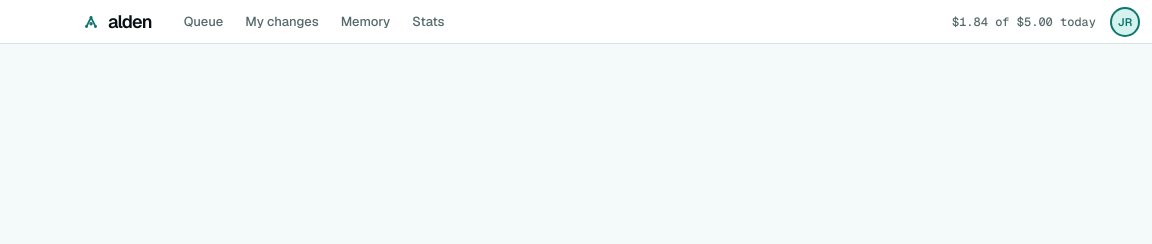
it: TopBar › says what still signs you in, and saves the export to Downloads in the desktop app
This screenshot has width=1152, height=244.
Click the button with aria-label "Account menu": x=1125, y=22 1112,8 -> 1138,34
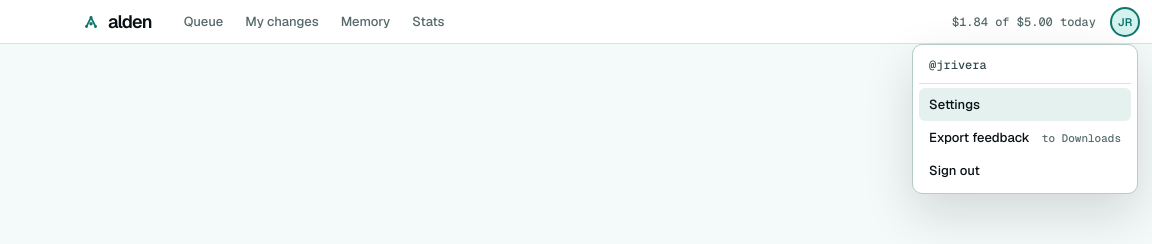
Click the menu item "Export feedback to Downloads": x=1025, y=137 919,120 -> 1131,154
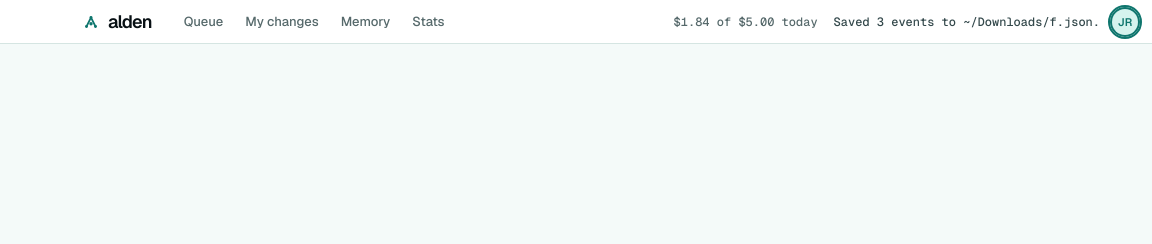
Expected: the text "Saved 3 events to ~/Downloads/f.json." is shown, 834,14 -> 1100,30
Click the button with aria-label "Account menu": x=1125, y=22 1112,8 -> 1138,34
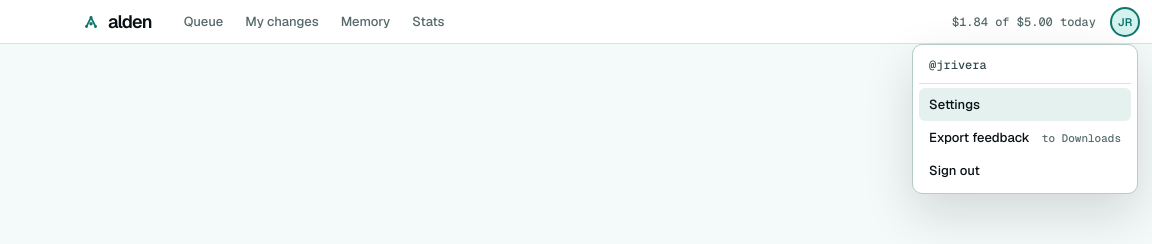
Click the menu item "Sign out": x=1025, y=170 919,154 -> 1131,186
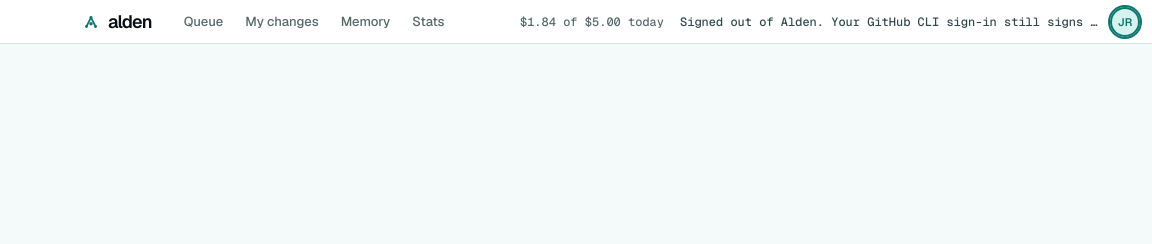
Expected: the text "Signed out of Alden. Your GitHub CLI sign-in still signs you in." is shown, 680,14 -> 1100,30
